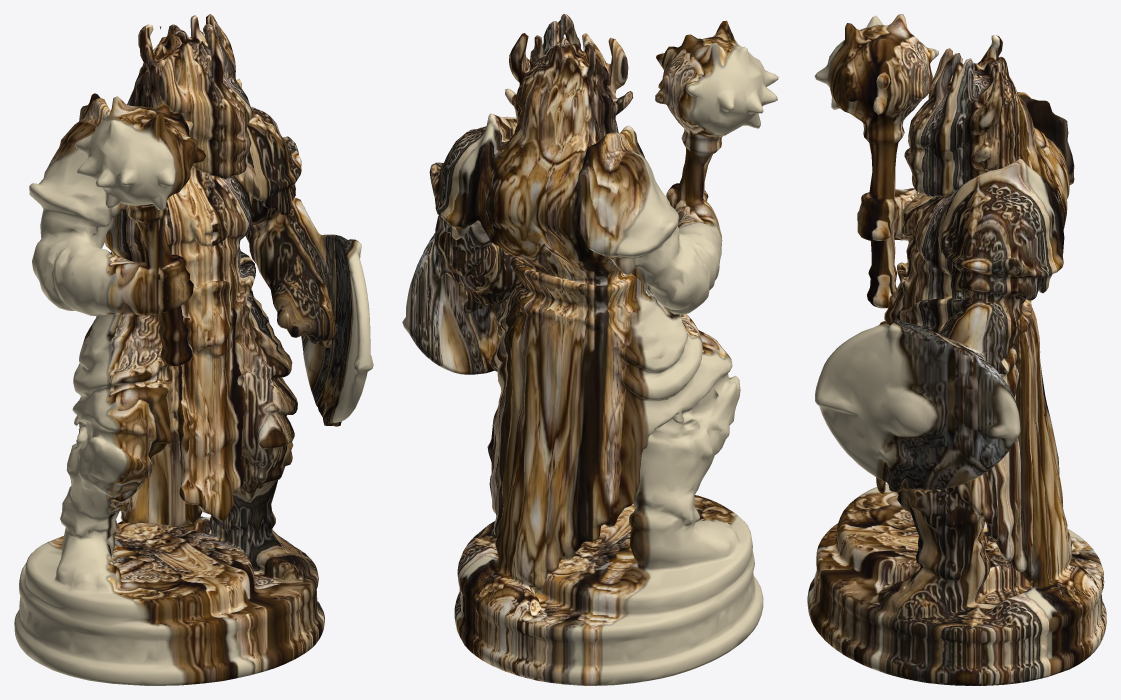
File: padati.glb
3 renders of one model, left to right at view 1: azimuth 30°, elevation 25°; view 2: azimuth 150°, elevation 25°; view 3: azimuth 270°, elevation 25°, orthographic.
Visible parts, largest first — view 1: geometry_0; view 2: geometry_0; view 3: geometry_0.
Boxes of the visible parts, left/top/right/bottom form: geometry_0: left=14, top=14, right=373, bottom=685; geometry_0: left=402, top=14, right=778, bottom=685; geometry_0: left=807, top=14, right=1106, bottom=685.
Size of the model in its own units: 1.07 by 1.99 by 0.9064.
Materials: 1 (1 with a texture image).
